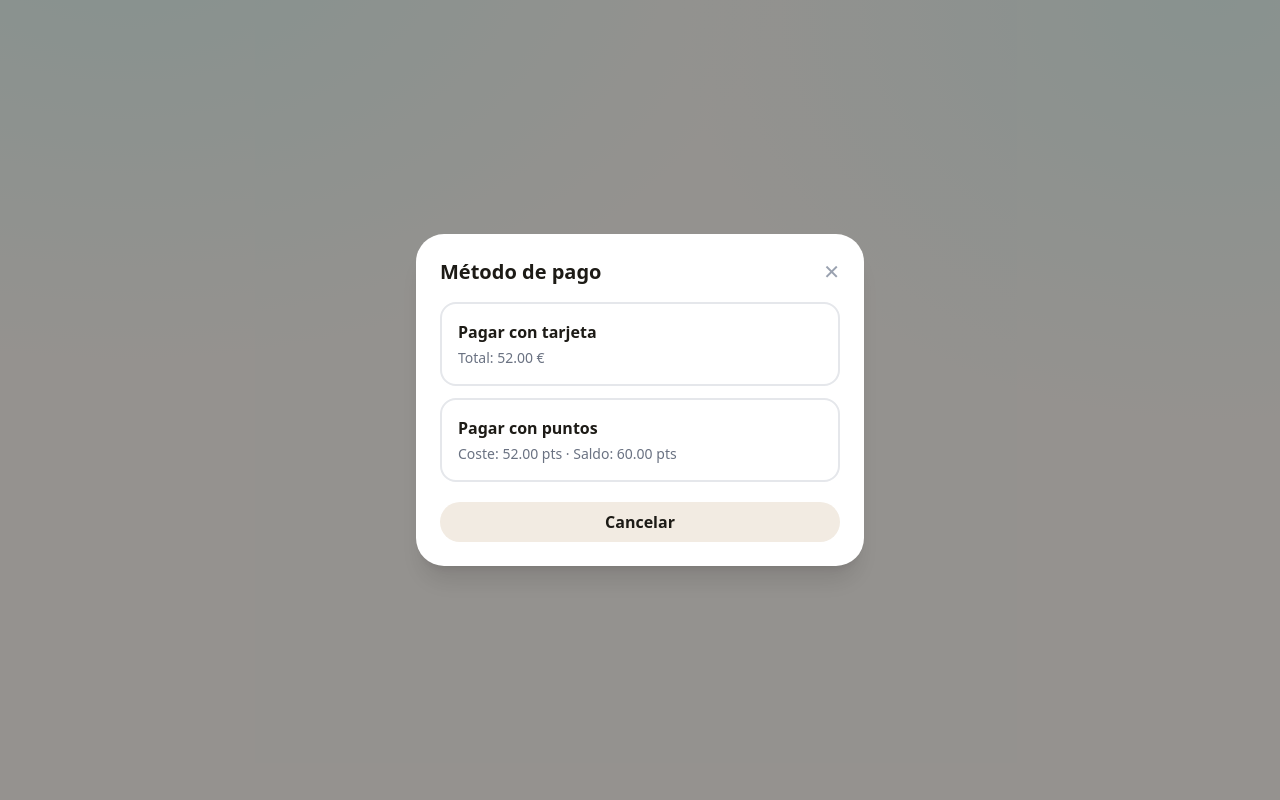
PaymentModal — selector de método de pago › vuelve al selector al pulsar la flecha de retroceso
The width and height of the screenshot is (1280, 800).
Step 1. Click the text "Pagar con tarjeta" → click(527, 332), box [458,320,596,344]
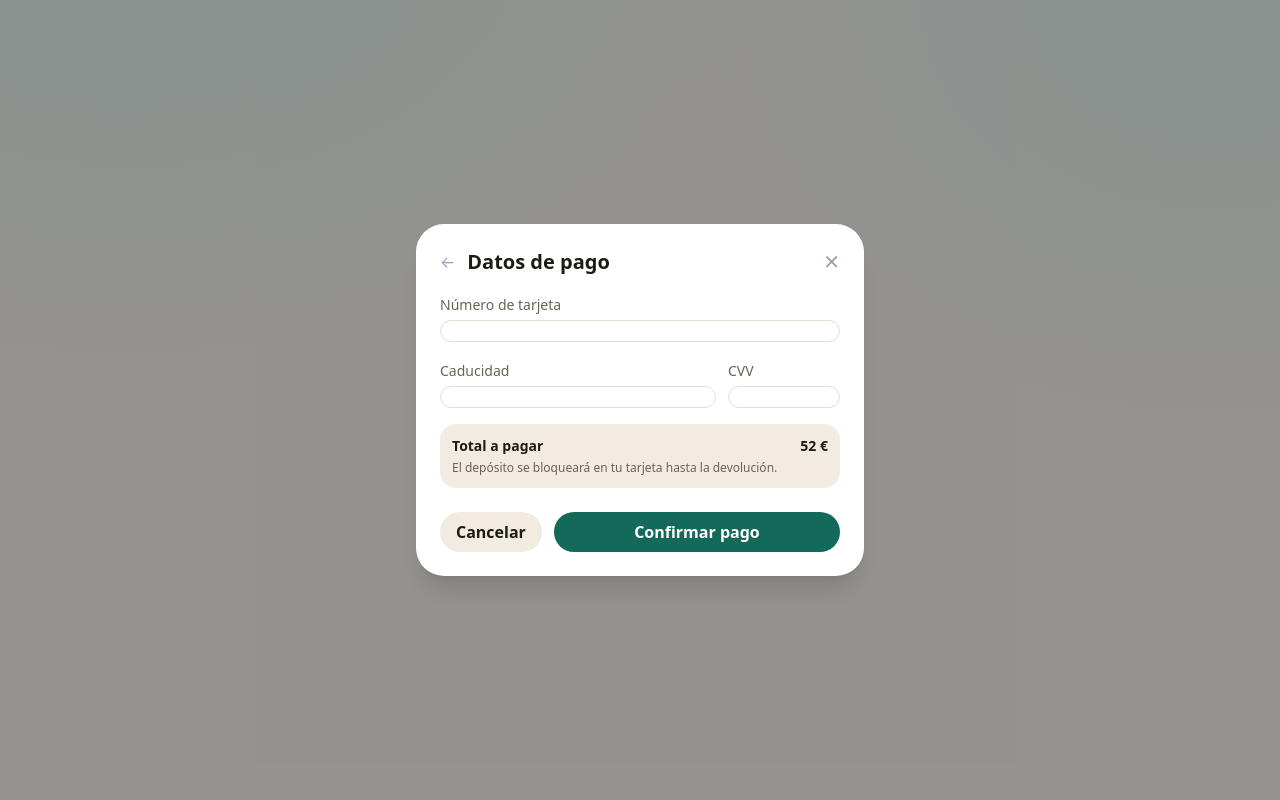
Step 2. Click the button named "Volver" → click(448, 262), box [440,250,455,274]
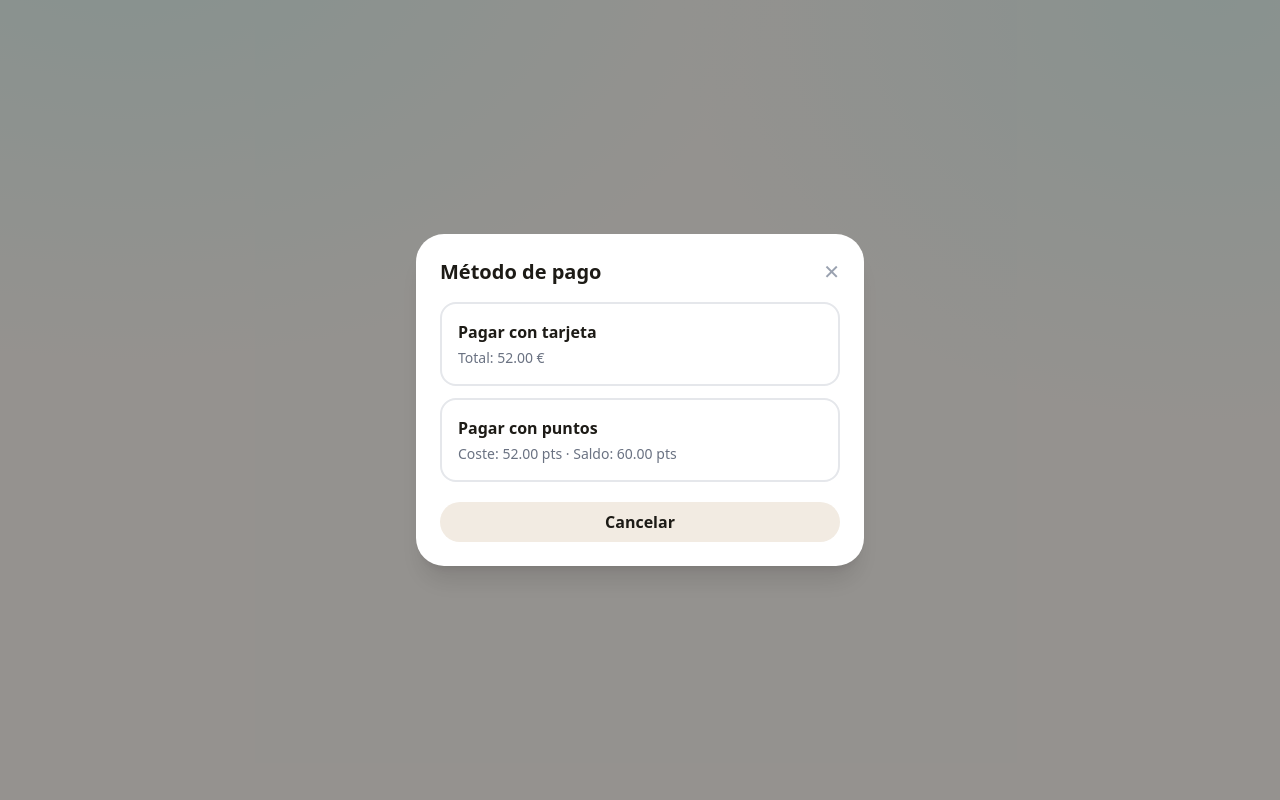
Result: the heading "Método de pago" is shown at [440,258,602,286]
